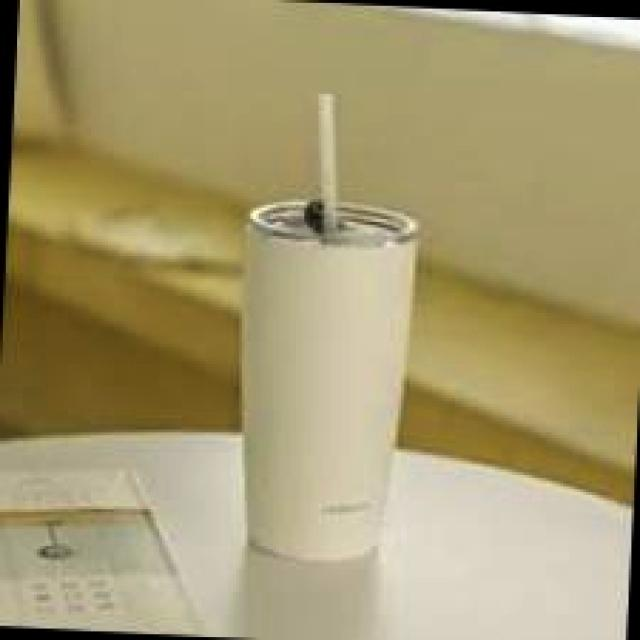bottle: (230, 88, 424, 569)
